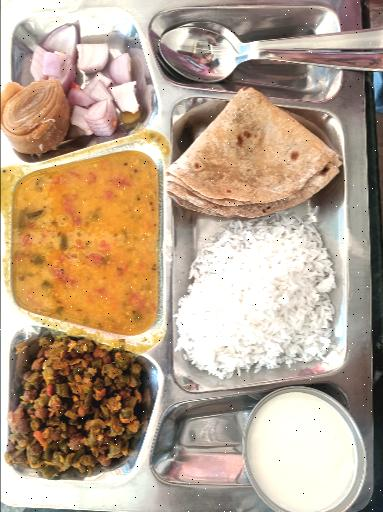Curd: (241, 389, 369, 512)
Dal: (12, 158, 159, 330)
Rice: (178, 224, 338, 372)
Roti: (166, 87, 342, 219)
Salad: (74, 20, 153, 140)
Sweet: (0, 76, 83, 154)
Vegetable: (0, 342, 150, 482)
